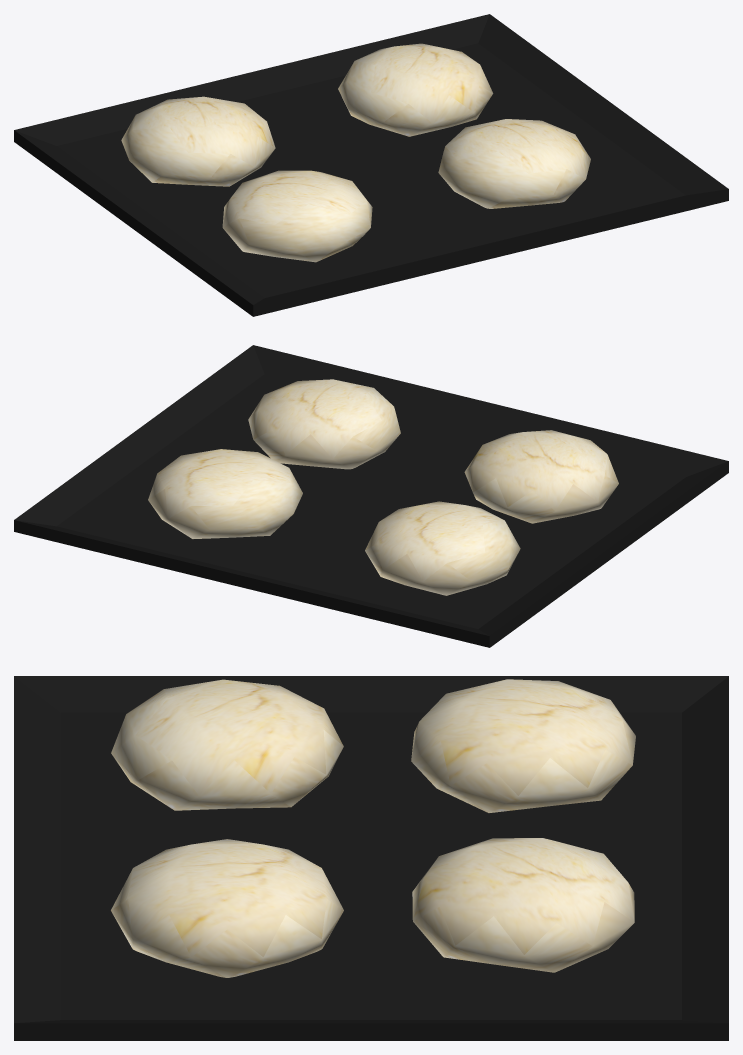
The model's file is amasado-crudo.glb.
3 views of the same model, one above another, from view 1: azimuth 30°, elevation 25°; view 2: azimuth 150°, elevation 25°; view 3: azimuth 270°, elevation 25° (orthographic). The views are drawn at different scales.
Visible parts, largest first — view 1: Bandeja, pan.002, pan.001, pan, pan.003; view 2: Bandeja, pan.003, pan.002, pan.001, pan; view 3: Bandeja, pan, pan.001, pan.003, pan.002.
Boxes of the visible parts, left/top/right/bottom form: Bandeja: left=14, top=14, right=728, bottom=316; pan.002: left=121, top=96, right=275, bottom=186; pan.001: left=222, top=170, right=372, bottom=262; pan: left=438, top=119, right=590, bottom=208; pan.003: left=338, top=43, right=493, bottom=136; Bandeja: left=14, top=345, right=728, bottom=647; pan.003: left=148, top=449, right=302, bottom=538; pan.002: left=365, top=501, right=520, bottom=595; pan.001: left=464, top=430, right=618, bottom=523; pan: left=248, top=379, right=400, bottom=469; Bandeja: left=14, top=676, right=728, bottom=1040; pan: left=111, top=839, right=343, bottom=977; pan.001: left=111, top=679, right=343, bottom=810; pan.003: left=412, top=838, right=634, bottom=972; pan.002: left=411, top=679, right=635, bottom=812.
Size of the model in its own units: 1.69 by 0.217 by 1.47.
Materials: 5 (4 with a texture image).
